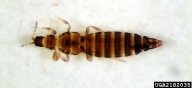Thrips: (23, 18, 169, 70)
